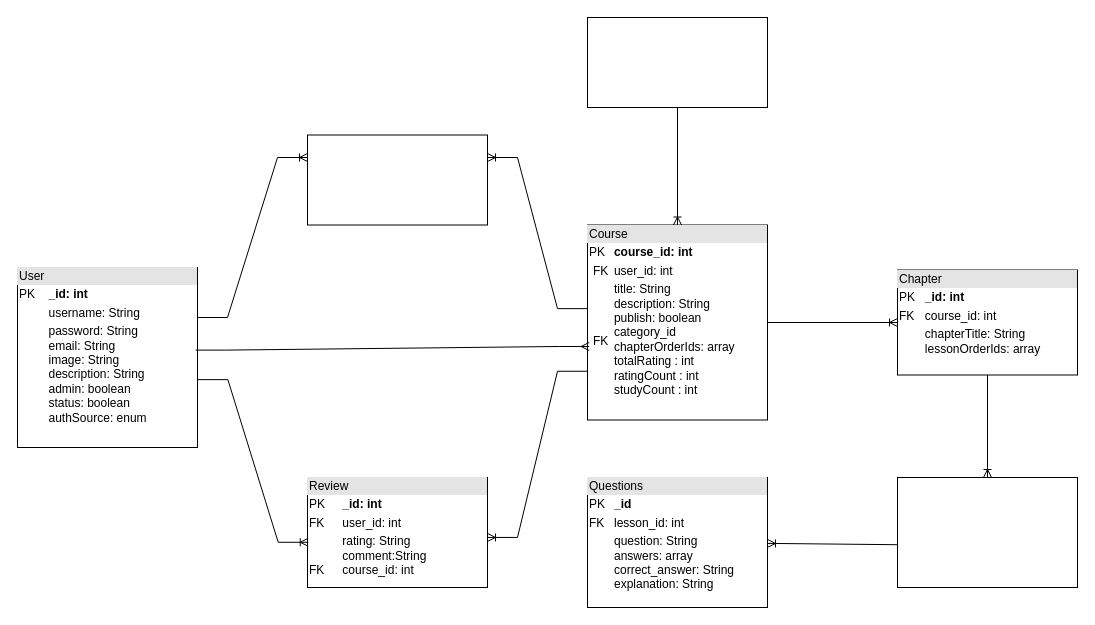
Image size: 1095x625. Some labels were removed from this diagram. Here are the shapes that lost their labels. From the top down, the centre of each, then its label:
pixel 677 62: Categories PK category_id: int categoryName: String
pixel 397 179: CourseStudy PK FK _id: int user_id: int FK course_id: int
pixel 987 532: Lesson PK _id: int FK chapter_id: int lessonTitle: String content: String
